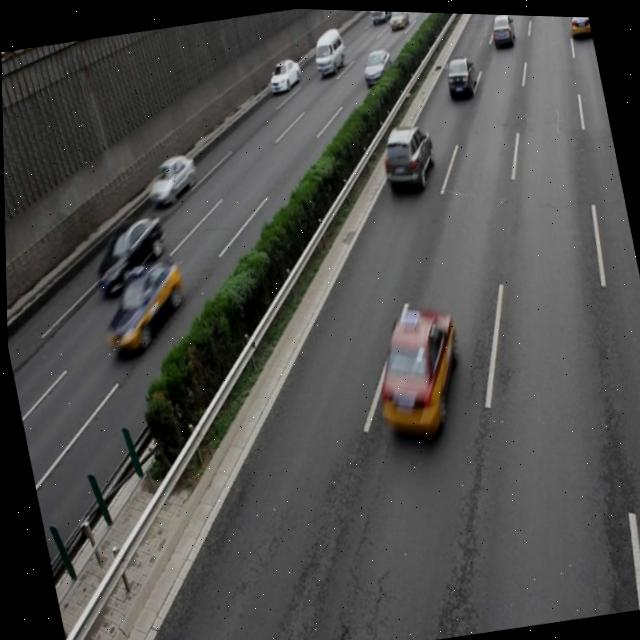car: (358, 298, 471, 448), (90, 251, 192, 358), (82, 207, 172, 296), (372, 116, 439, 194), (139, 149, 200, 209), (440, 51, 478, 101), (358, 44, 394, 87)
